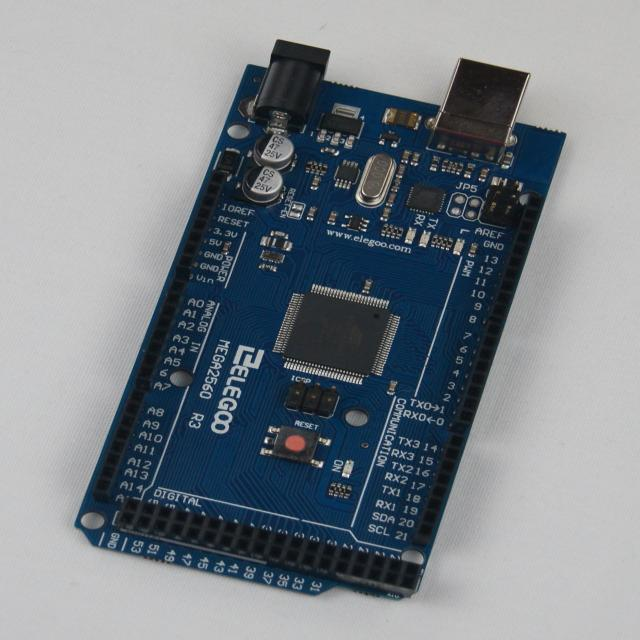Arduino Mega 2560 -Blue-: (76, 42, 566, 597)
